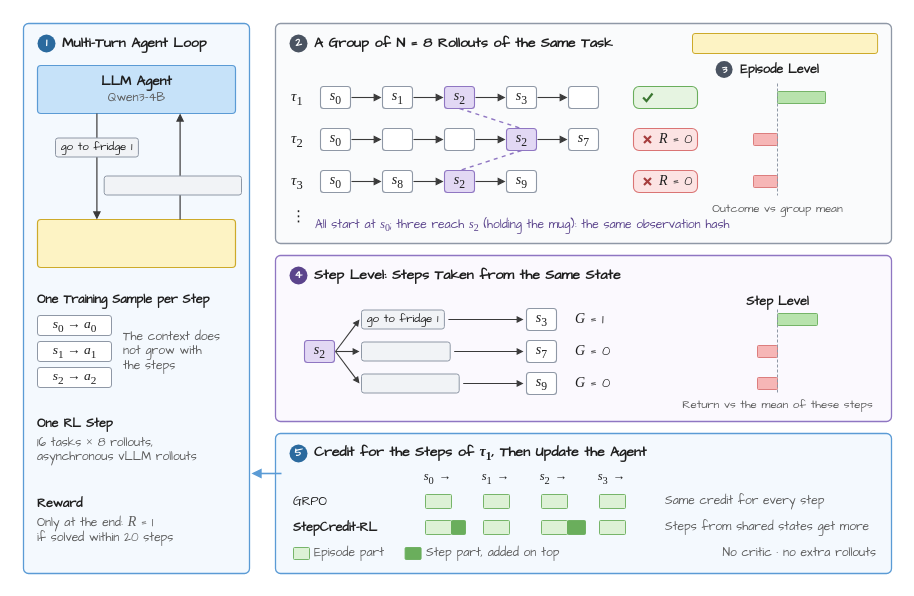
This 914x596 diagram has some shape labels left out. Each missing label, with the centre of its shape:
Environment ALFWorld household tasks: [136,243]
go to cabinet 1: [405,351]
go to sinkbasin 1: [409,383]
R = 1: [665,97]
s 4: [583,97]
s 5: [397,139]
s 6: [459,139]
Task: “put a cool mug in cabinet”: [785,43]
“You arrive at fridge 1.”: [172,185]
